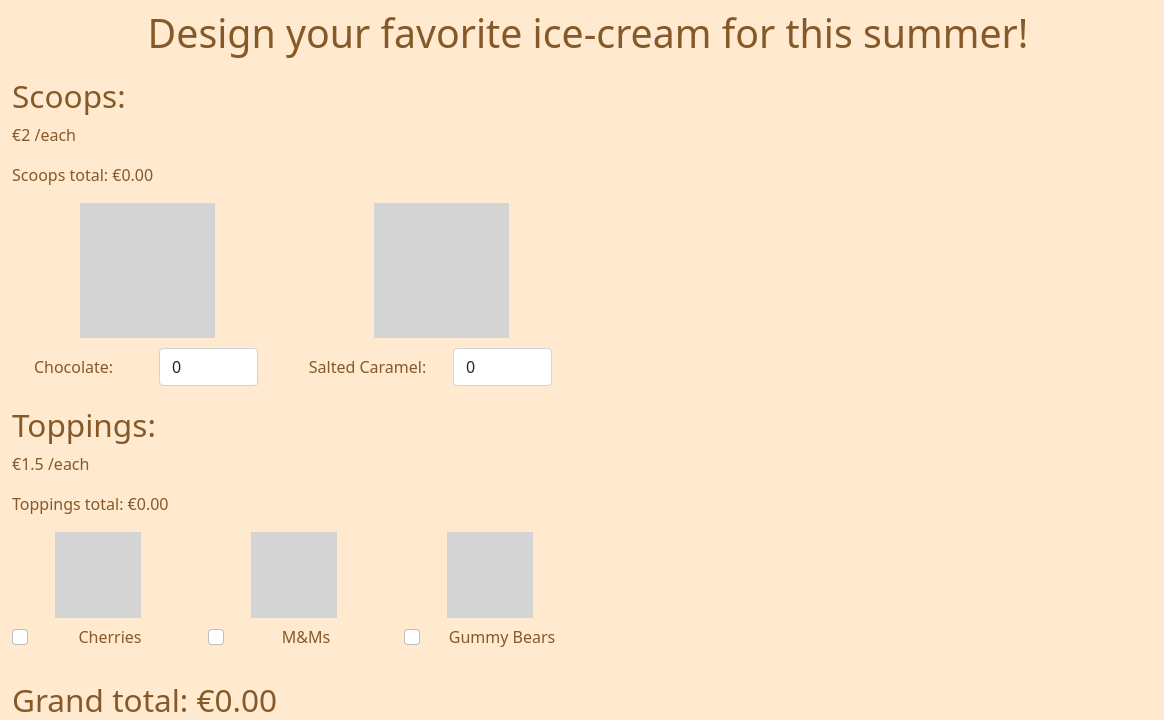
Test: grand total › grand total starts if item is removed
The image size is (1164, 720).
Click the checkbox labelled "M&Ms". click: x=216, y=637
box: 208,629 -> 224,645
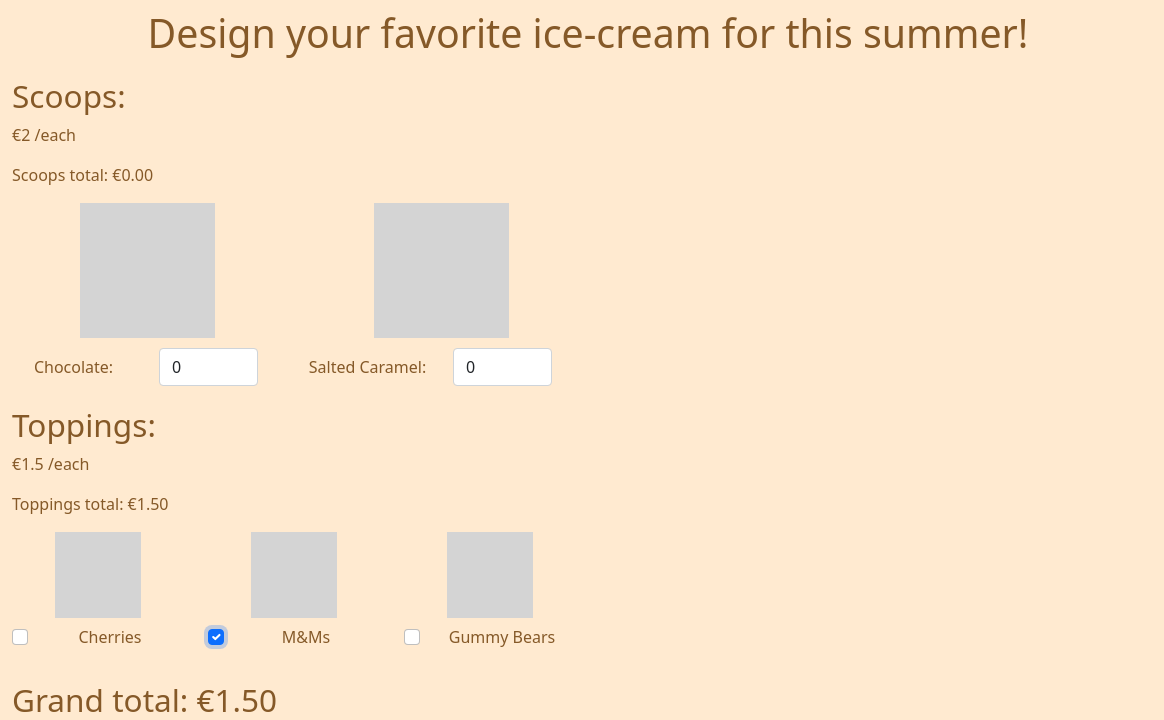
Replace the text in the number field labelled "Salted Caramel:" with "2". click: x=502, y=367
box: 453,348 -> 552,386
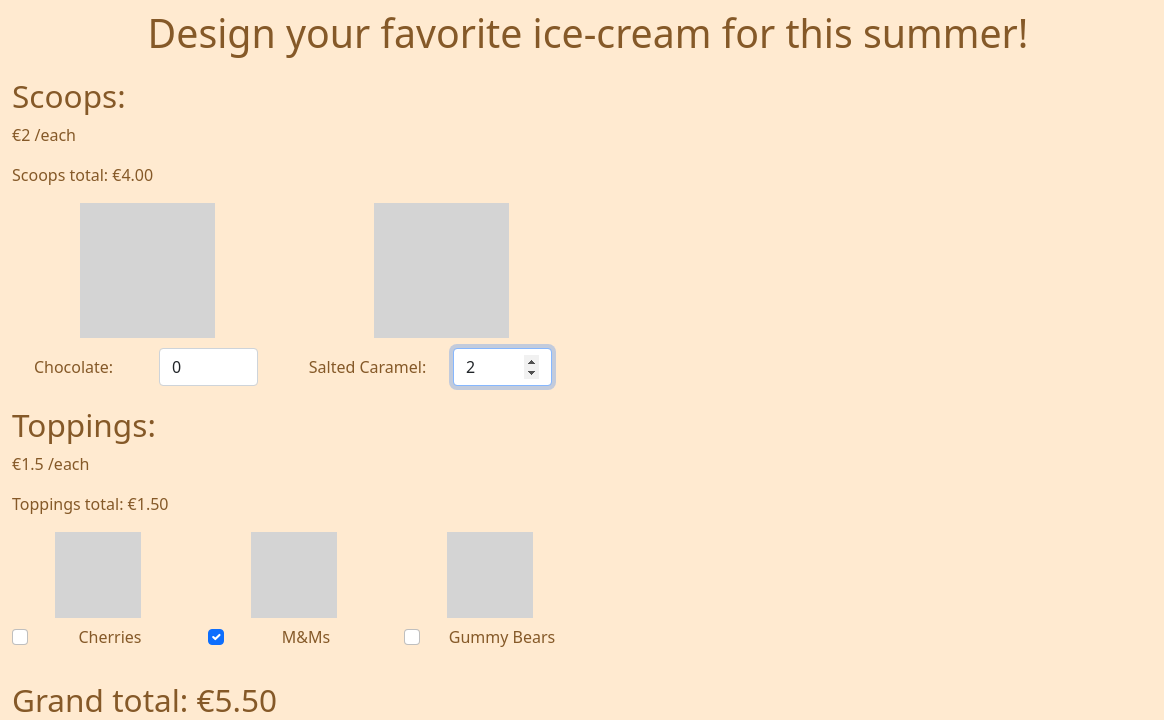
Replace the text in the number field labelled "Salted Caramel:" with "1". click: x=502, y=367
box: 453,348 -> 552,386
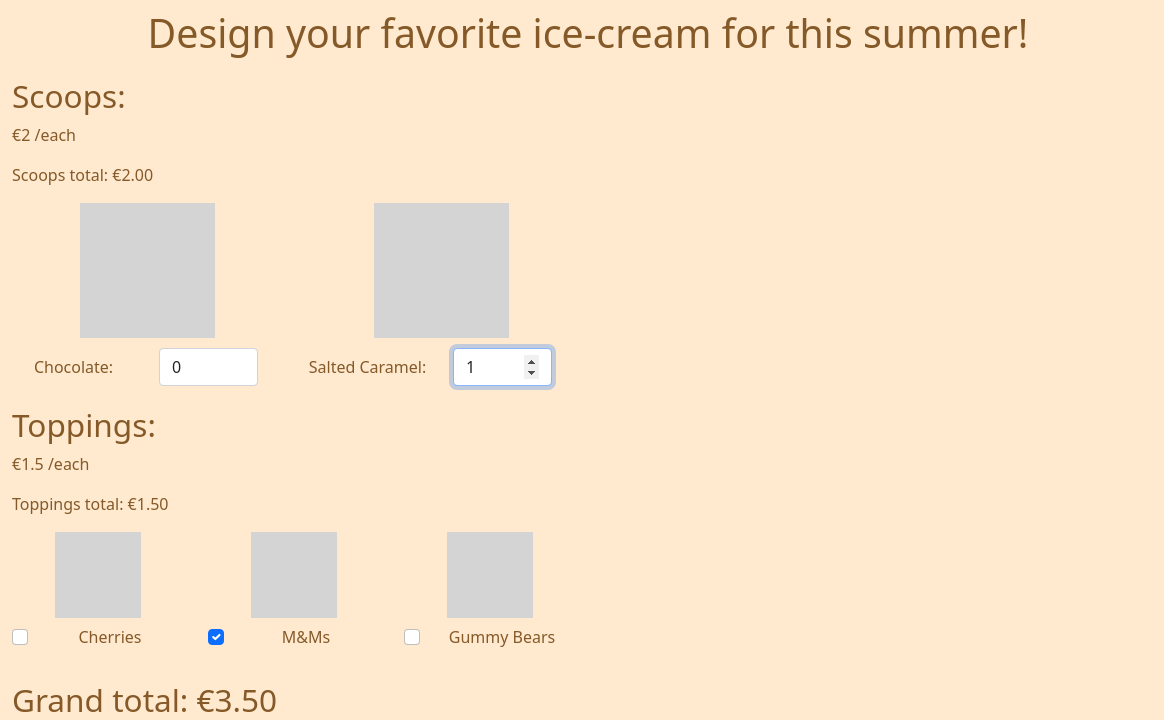
Now the heading "Grand total: €3.50" is shown, box 12,678 -> 277,719
Click the checkbox labelled "M&Ms". click: x=216, y=637
box: 208,629 -> 224,645
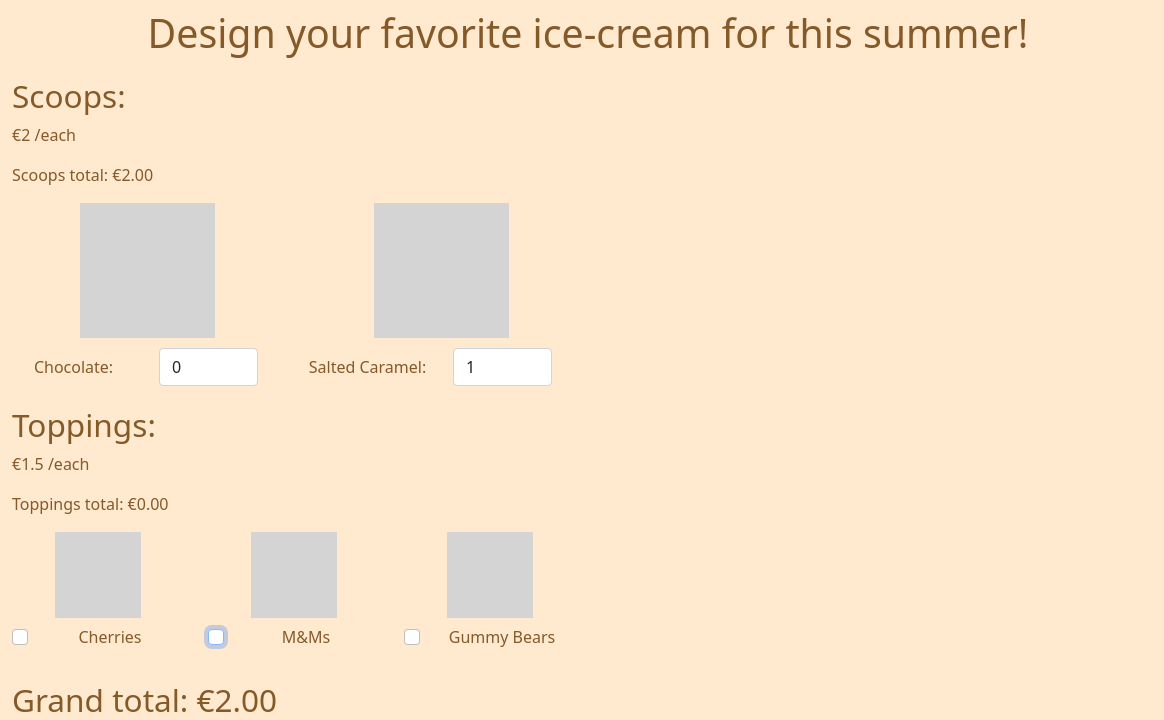
Now the heading "Grand total: €2.00" is shown, box 12,678 -> 277,719
